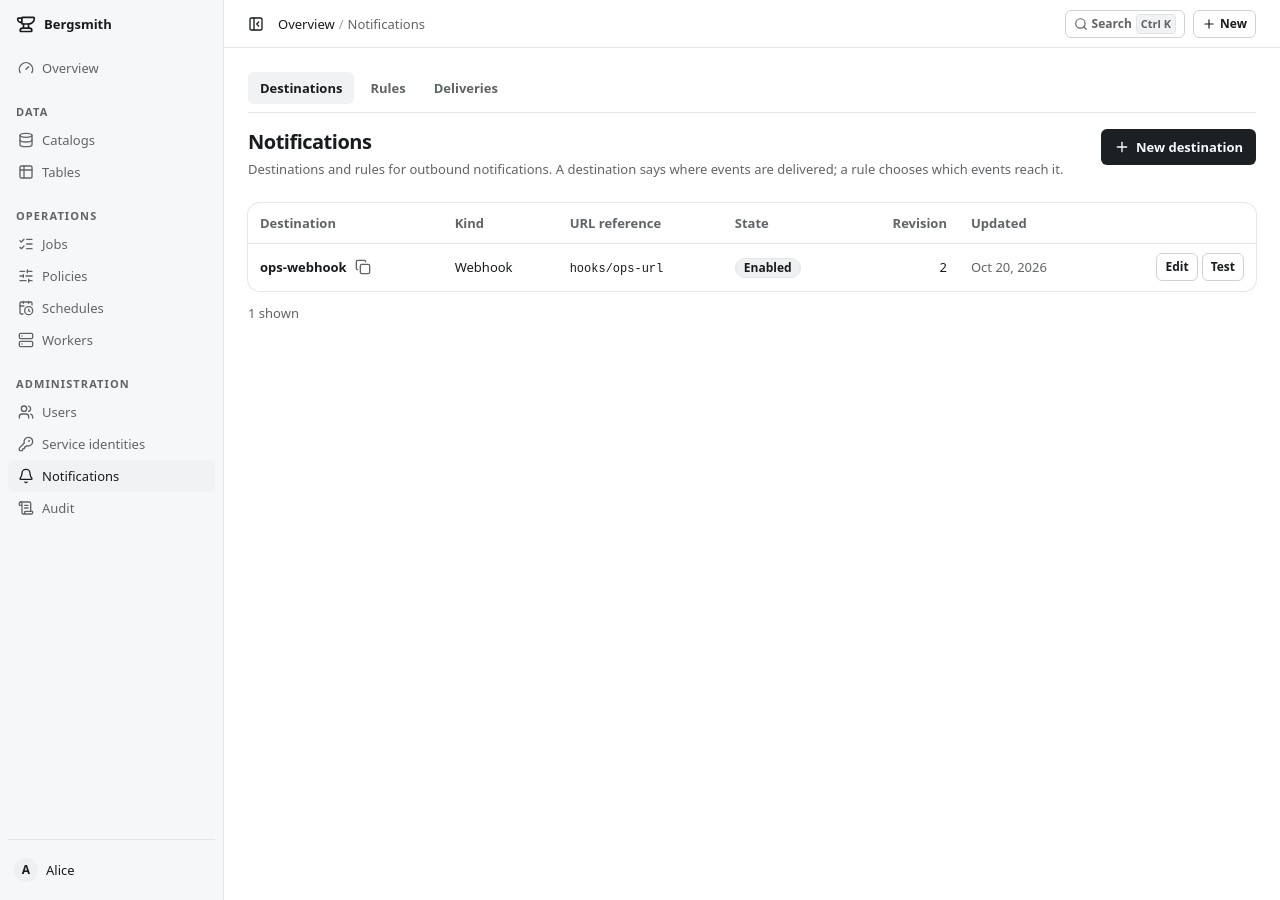
Test: notification destinations › reports a delivered test without showing the response body
What coordinates should you click on to do the following:
click the button with aria-label "Test ops-webhook"
I would click on:
 (1223, 267)
Its box is [1202,253,1244,281].
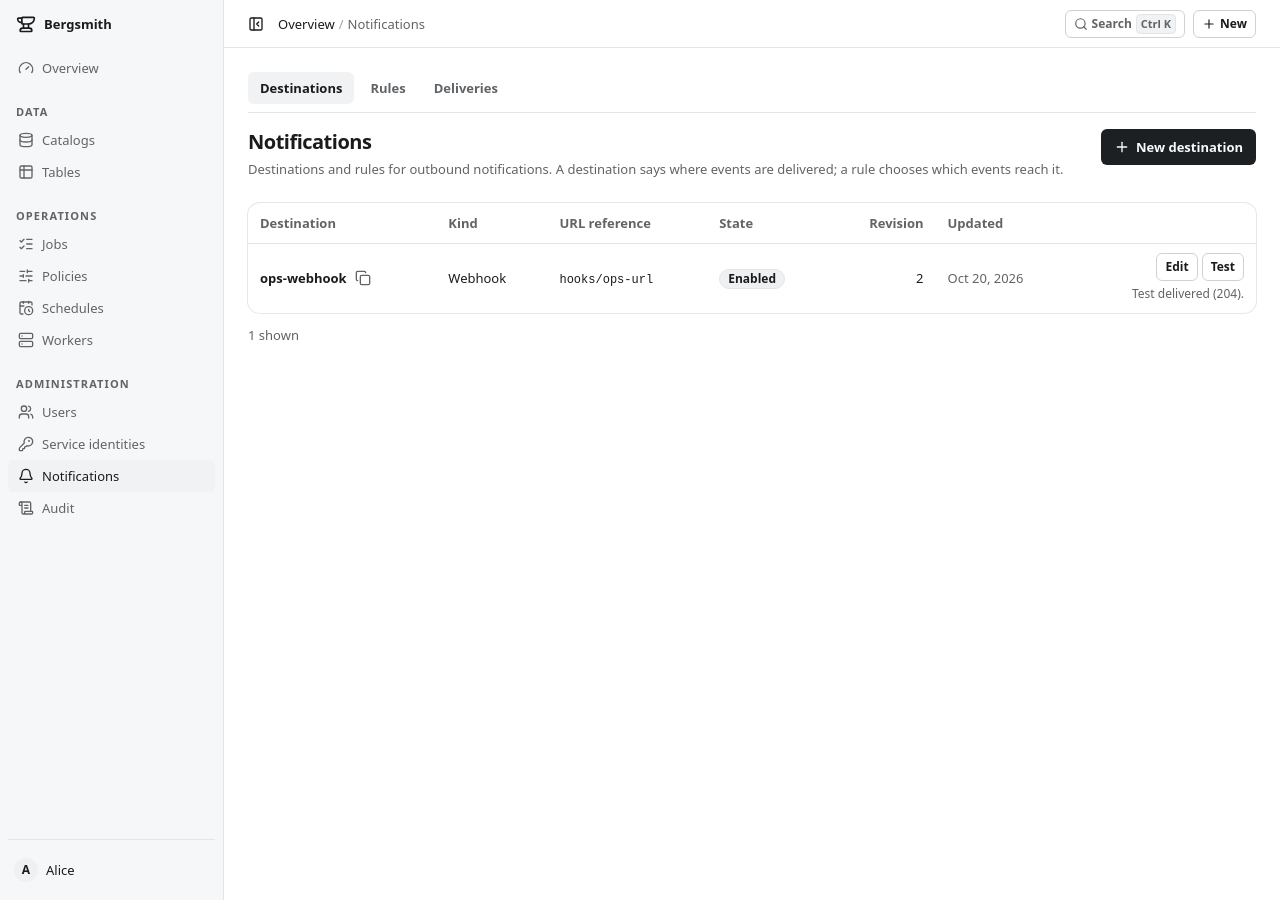
Check: the text "Test delivered (204)." is shown, box [1132,285,1244,303]
